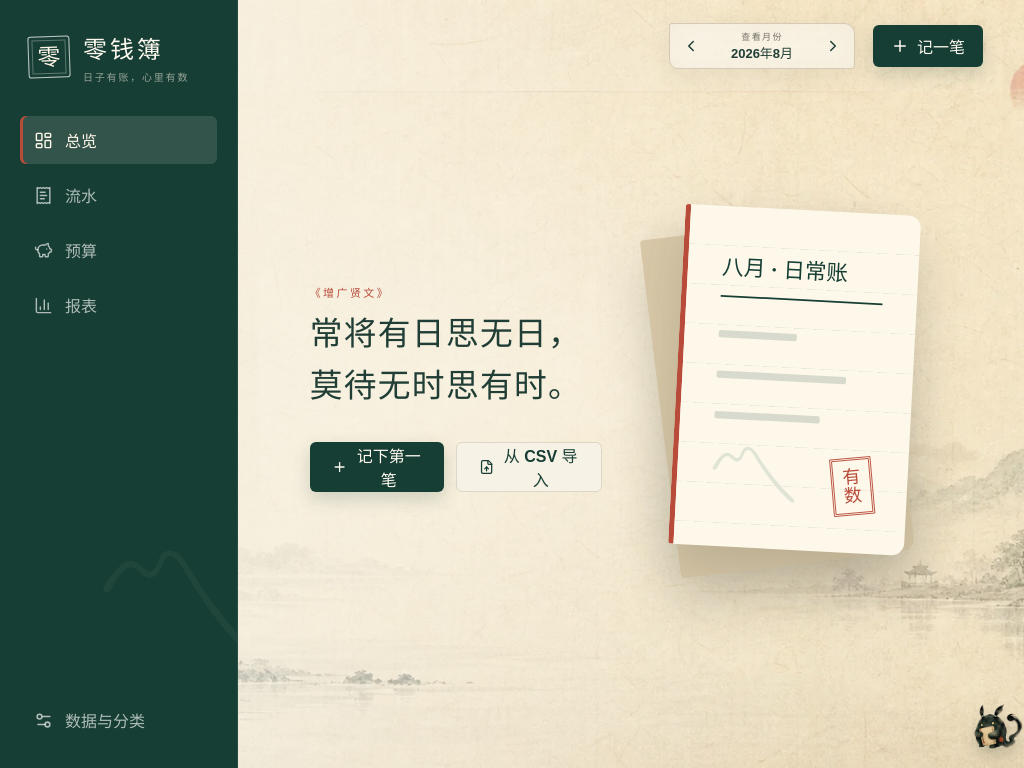
首次记账流程 › 在数据面板显示端到端加密同步入口
Click the button "数据与分类" at coordinates (118, 720), box [20,696,217,744]
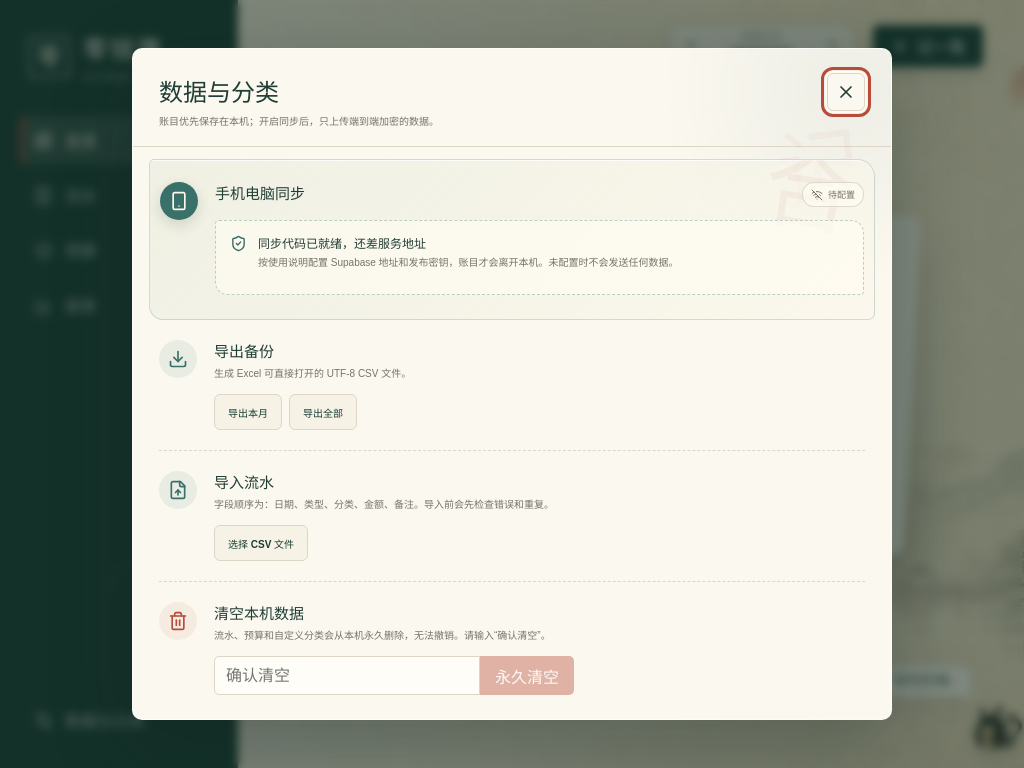
Expected: the heading "手机电脑同步" is shown, [215,182,305,203]
Expected: the text "同步代码已就绪，还差服务地址" is shown, [258,237,426,251]
